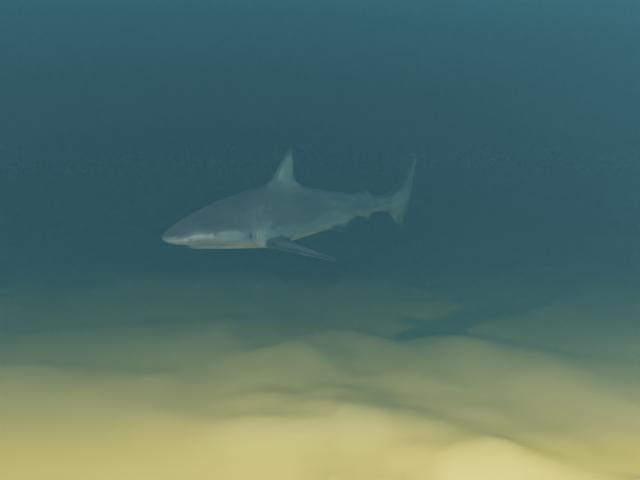Carribean Shark.001: (161, 148, 418, 261)
